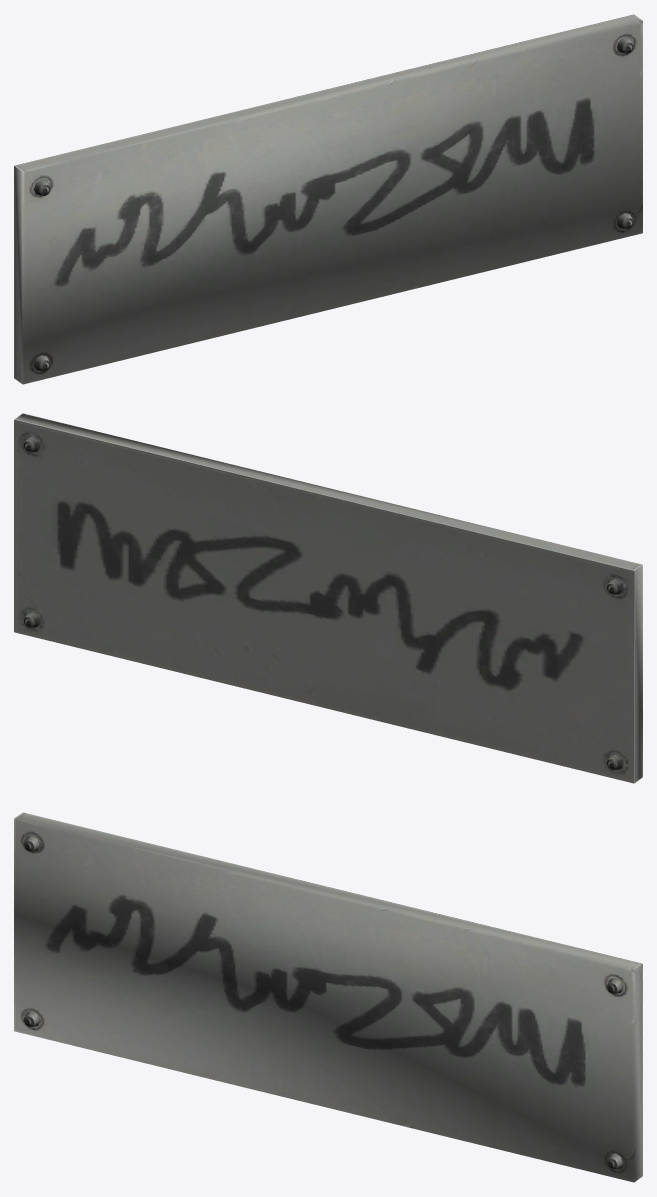
Rendered from sign_reception_wau.dae.
3 views of the same model, one above another, from view 1: azimuth 30°, elevation 25°; view 2: azimuth 150°, elevation 25°; view 3: azimuth 330°, elevation 25° (orthographic).
Parts seen in each view (by area): view 1: sign_reception; view 2: sign_reception; view 3: sign_reception.
Boxes of the visible parts, x1,y1,x2,y2 form: sign_reception: [14, 14, 642, 384]; sign_reception: [14, 413, 642, 783]; sign_reception: [14, 812, 642, 1182].
Bounding box in the file's own units: 99.86 × 32.68 × 4.89.
